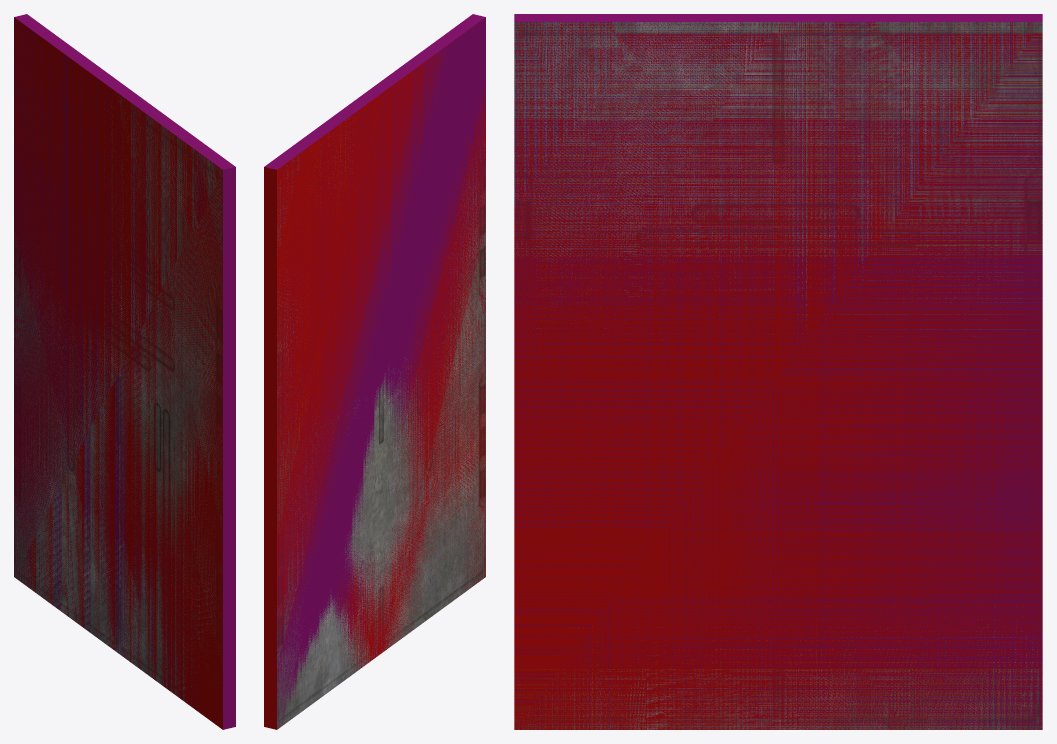
The model's file is SciFi_wall_plain.DAE.
The picture shows the model from 3 angles, left to right: view 1: azimuth 30°, elevation 25°; view 2: azimuth 150°, elevation 25°; view 3: azimuth 270°, elevation 25°; orthographic projection. The views are drawn at different scales.
Visible parts, largest first — view 1: colbox-01, LP_wall_plain, bounds; view 2: colbox-01, bounds, LP_wall_plain; view 3: colbox-01, bounds, LP_wall_plain.
Part boxes in pixels (x1,y1,x2,y2): colbox-01: [14, 17, 222, 729]; LP_wall_plain: [14, 92, 222, 706]; bounds: [14, 14, 235, 729]; colbox-01: [264, 40, 485, 729]; bounds: [264, 14, 485, 728]; LP_wall_plain: [277, 117, 485, 729]; colbox-01: [514, 22, 1042, 729]; bounds: [514, 14, 1042, 729]; LP_wall_plain: [514, 22, 1042, 729].
Size of the model in its own units: 24 by 676 by 1000.
